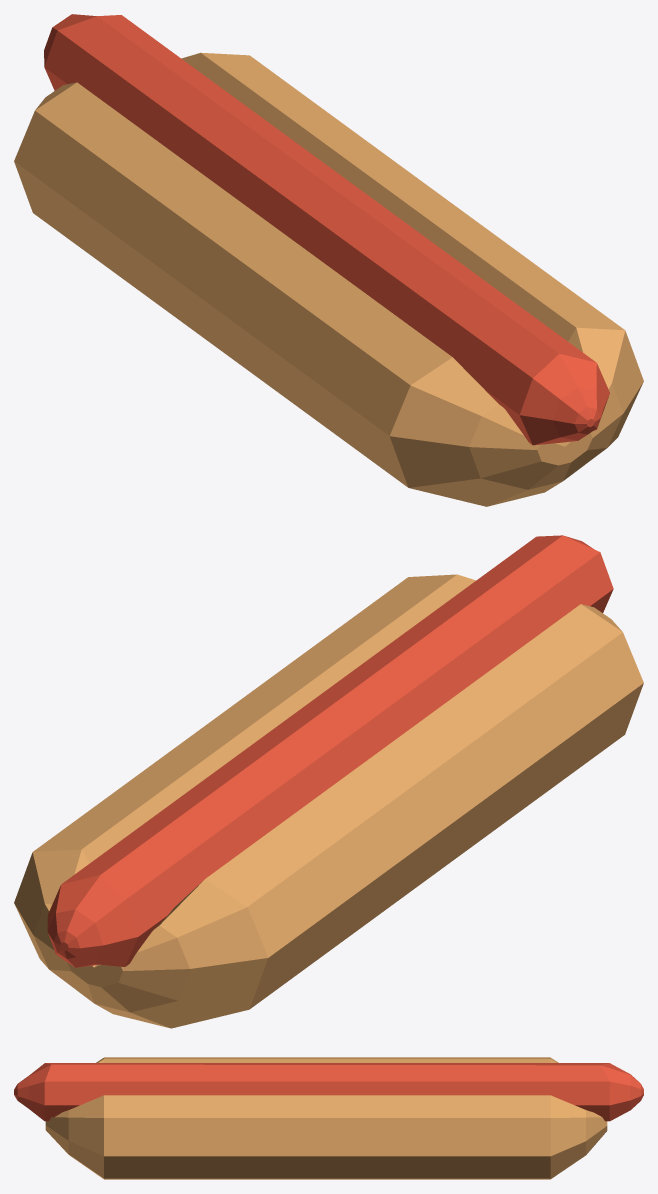
Rendered from Izurieta_Borja_48390367.fbx.
3 renders of one model, top to bottom at view 1: azimuth 30°, elevation 25°; view 2: azimuth 150°, elevation 25°; view 3: azimuth 270°, elevation 25°, orthographic. The views are drawn at different scales.
Parts seen in each view (by area): view 1: pancho; view 2: pancho; view 3: pancho.
Boxes of the visible parts, x1,y1,x2,y2 form: pancho: (14, 14, 643, 506); pancho: (14, 535, 643, 1028); pancho: (14, 1057, 643, 1179).
Size of the model in its own units: 281 by 189 by 1014.
